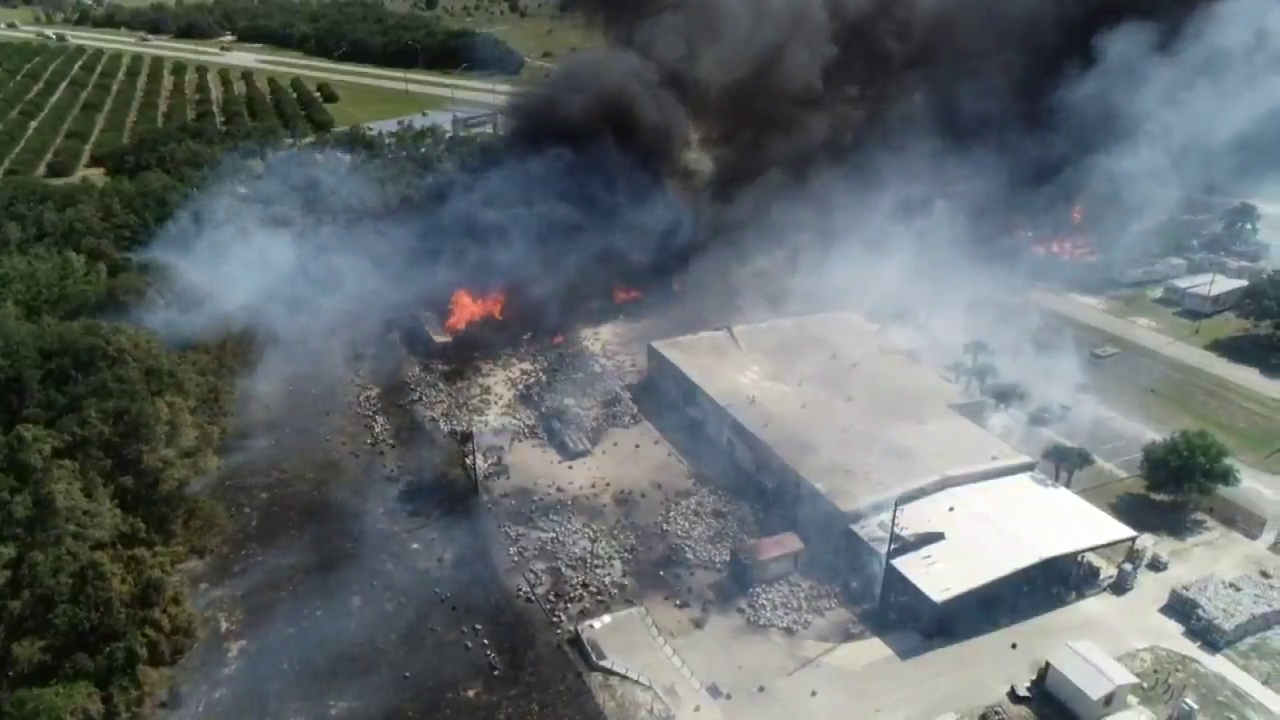forest_fire: (441, 289, 509, 336), (442, 289, 504, 334), (610, 283, 642, 303), (612, 284, 641, 302), (520, 294, 522, 295)
